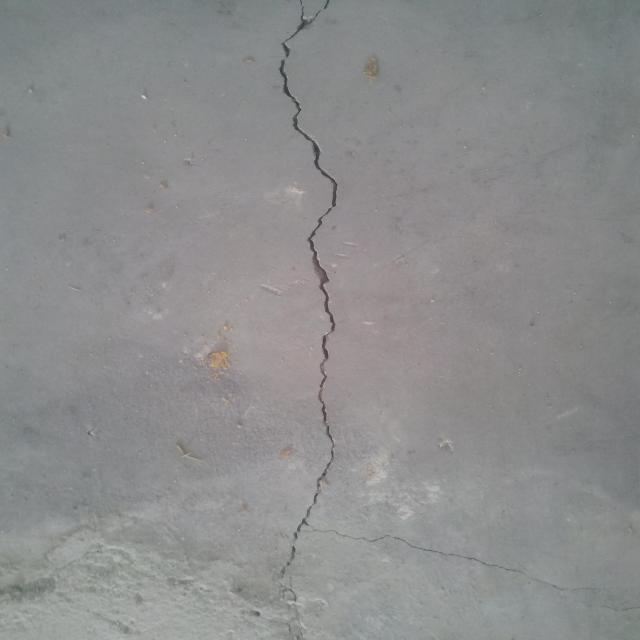Rachadura: (266, 0, 350, 590)
